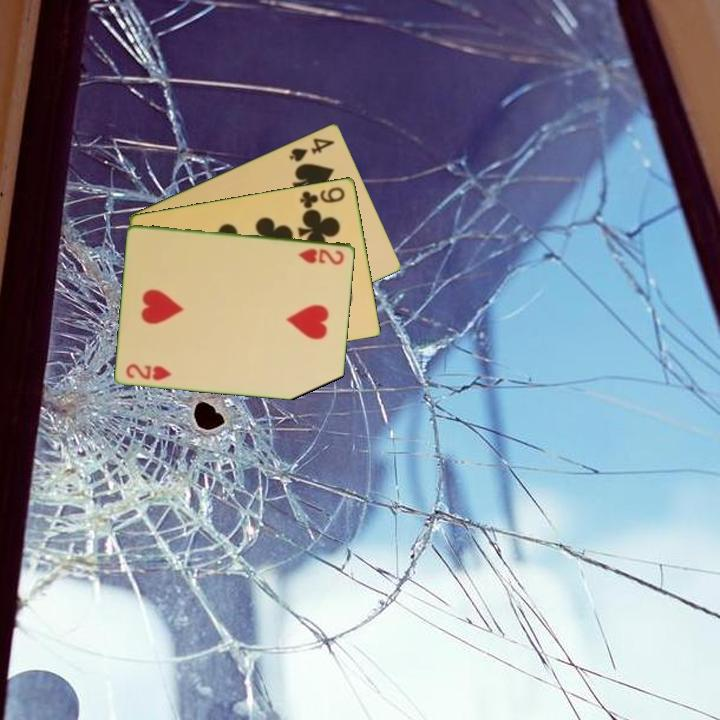2h: (123, 360, 174, 383), (295, 245, 347, 267)
4s: (286, 134, 338, 165)
9c: (296, 183, 348, 211)
